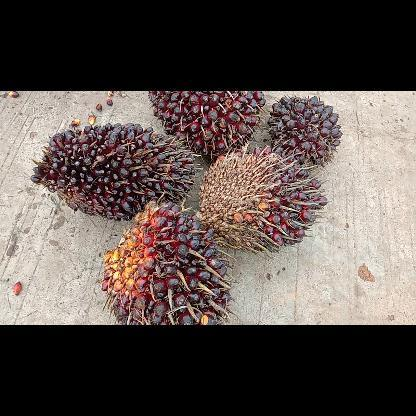TBS mentah: (101, 198, 237, 324), (31, 122, 202, 222), (198, 146, 330, 256), (147, 90, 265, 158), (266, 93, 341, 167)
